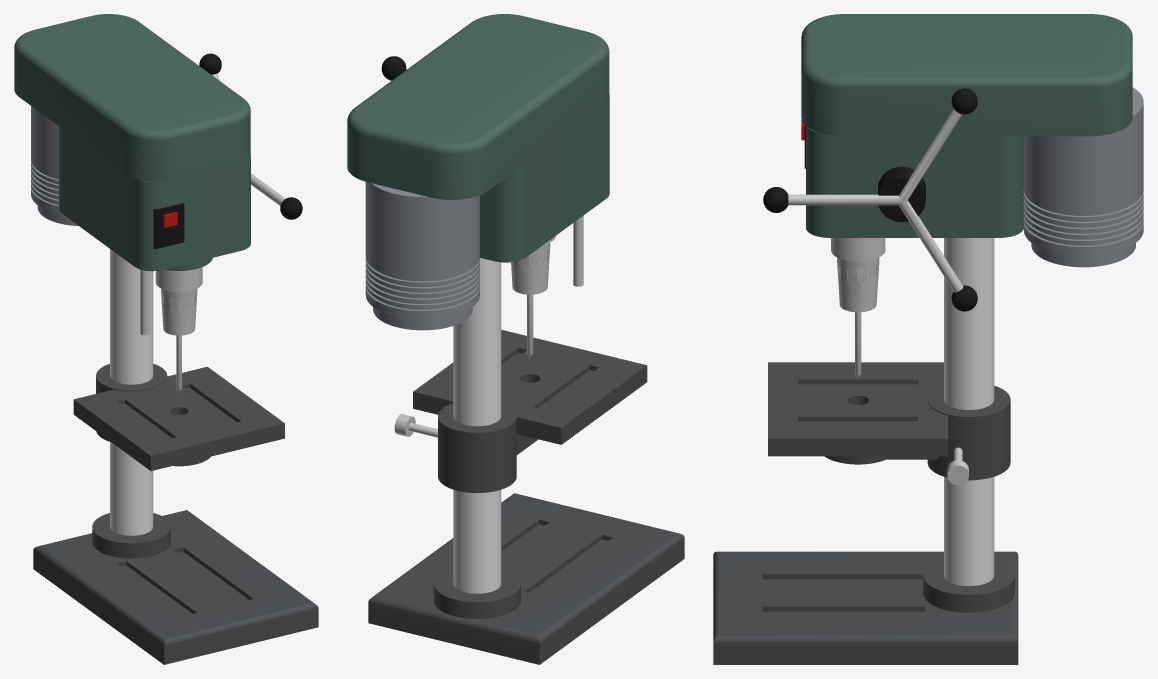
Rendered from drillpress.glb.
3 views of the same model, side by side, from view 1: azimuth 30°, elevation 25°; view 2: azimuth 150°, elevation 25°; view 3: azimuth 270°, elevation 25° (orthographic). The views are drawn at different scales.
Visible parts, largest first — view 1: drillpress_machine_green, drillpress_cast_iron, drillpress_chrome, drillpress_steel, drillpress_machine_gray, drillpress_black_plastic; view 2: drillpress_cast_iron, drillpress_machine_green, drillpress_machine_gray, drillpress_chrome, drillpress_steel; view 3: drillpress_machine_green, drillpress_cast_iron, drillpress_machine_gray, drillpress_chrome, drillpress_steel, drillpress_black_plastic.
Part boxes in pixels (left/top/right/bottom): drillpress_machine_green: left=14, top=14, right=250, bottom=271; drillpress_cast_iron: left=33, top=364, right=318, bottom=664; drillpress_chrome: left=110, top=249, right=153, bottom=535; drillpress_steel: left=140, top=73, right=285, bottom=393; drillpress_machine_gray: left=31, top=106, right=78, bottom=225; drillpress_black_plastic: left=153, top=53, right=302, bottom=249; drillpress_cast_iron: left=368, top=329, right=684, bottom=664; drillpress_machine_green: left=347, top=14, right=609, bottom=262; drillpress_machine_gray: left=365, top=182, right=479, bottom=330; drillpress_chrome: left=453, top=258, right=501, bottom=593; drillpress_steel: left=394, top=215, right=583, bottom=437; drillpress_machine_green: left=801, top=14, right=1132, bottom=237; drillpress_cast_iron: left=713, top=362, right=1018, bottom=664; drillpress_machine_gray: left=1023, top=87, right=1143, bottom=267; drillpress_chrome: left=944, top=238, right=994, bottom=586; drillpress_steel: left=788, top=109, right=968, bottom=485; drillpress_black_plastic: left=763, top=88, right=977, bottom=311.
Bounding box in the file's own units: 0.2022 × 0.5817 × 0.3944.
